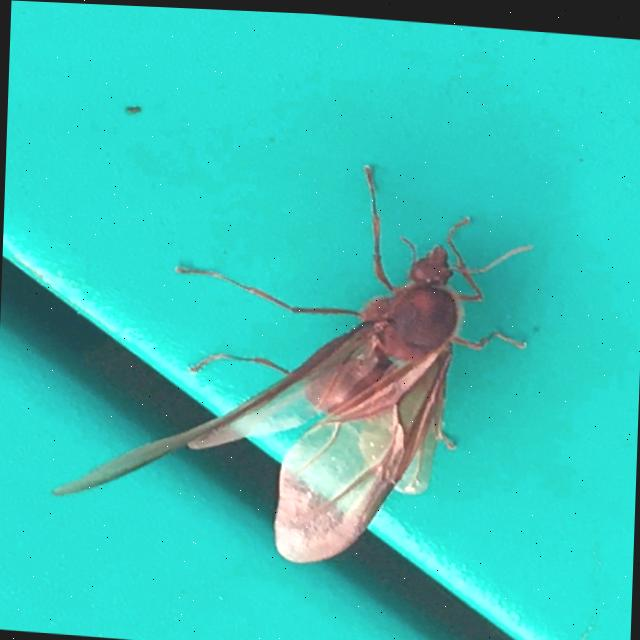Alive-Male-Alate: (48, 140, 534, 576)
